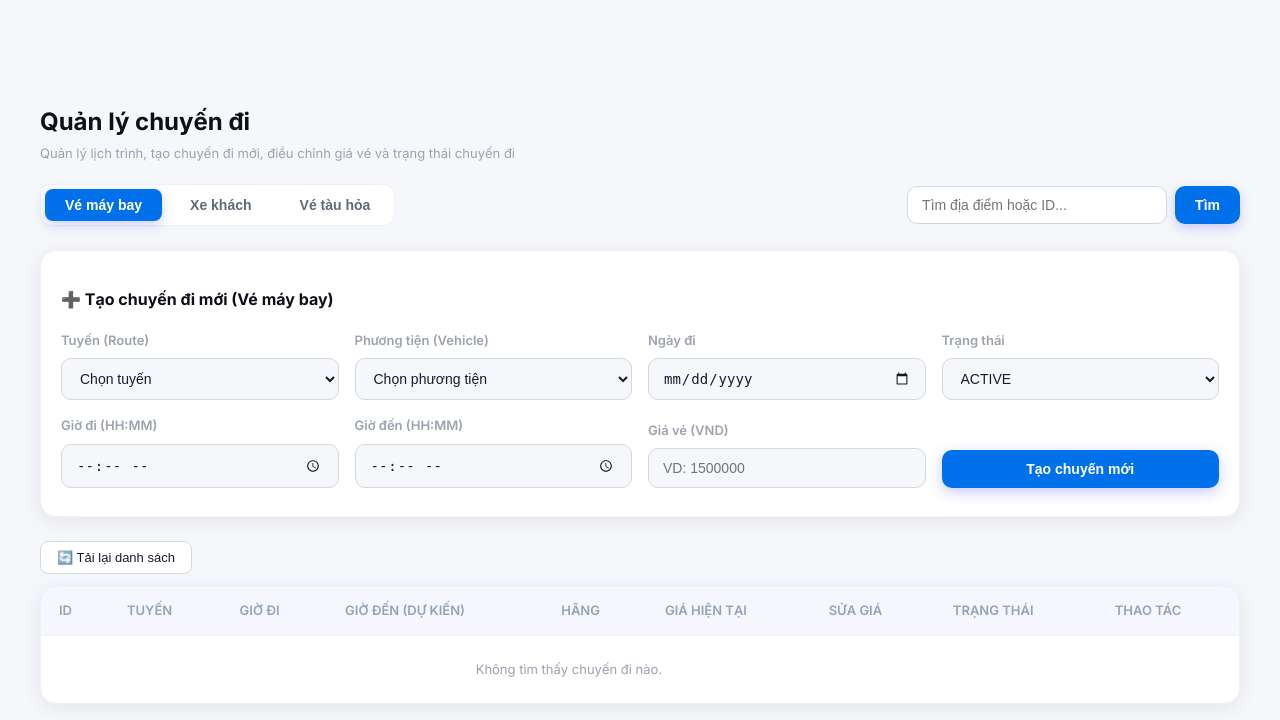
Test: AdminTrips — phản hồi sau khi tạo chuyến › không báo thành công khi server trả lỗi
Select "Hà Nội (HAN) → TP. Hồ Chí Minh (SGN)" in the dropdown below "Tuyến (Route)". click: (200, 379)
box: top-left (61, 358), bottom-right (338, 400)
Select "Vietnam Airlines (180 chỗ)" in the dropdown below "Phương tiện (Vehicle)". click: (493, 379)
box: top-left (354, 358), bottom-right (632, 400)
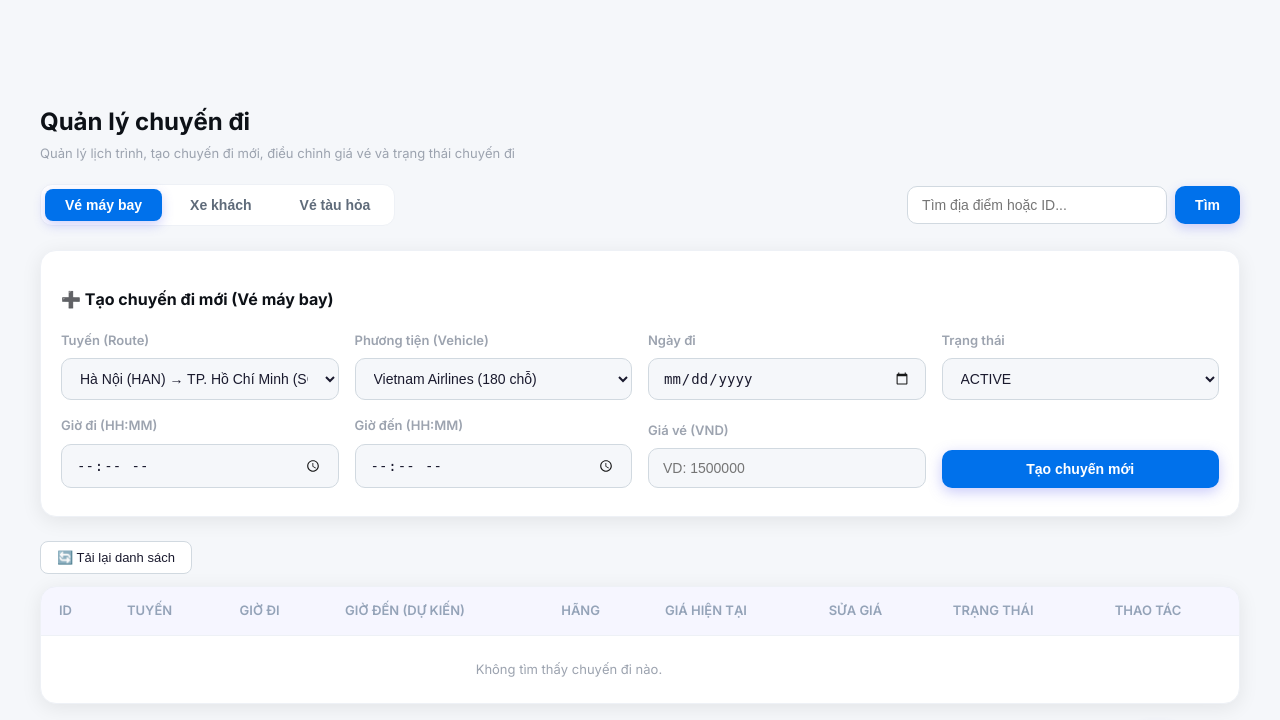
Type "2026-12-24" into the date field. click: (787, 379)
box: top-left (648, 358), bottom-right (926, 400)
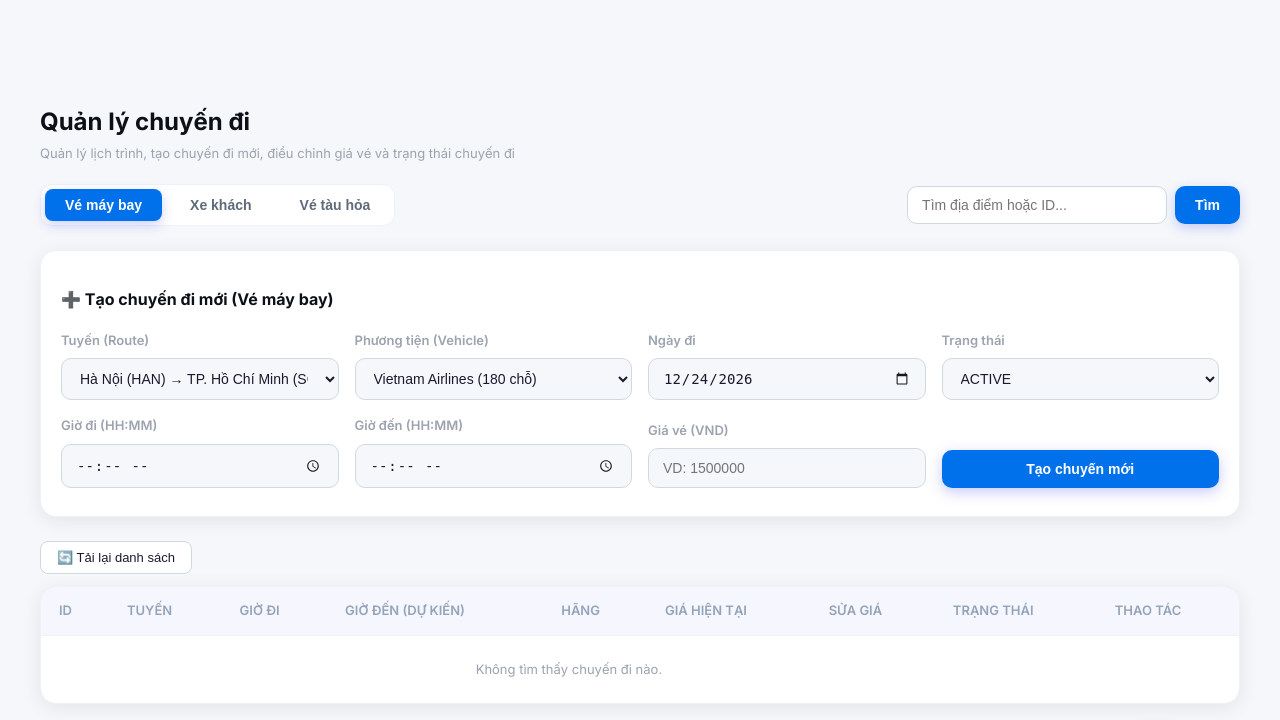
Type "08:00" into the time field below "Giờ đi (HH:MM)". click: (200, 466)
box: top-left (61, 444), bottom-right (338, 488)
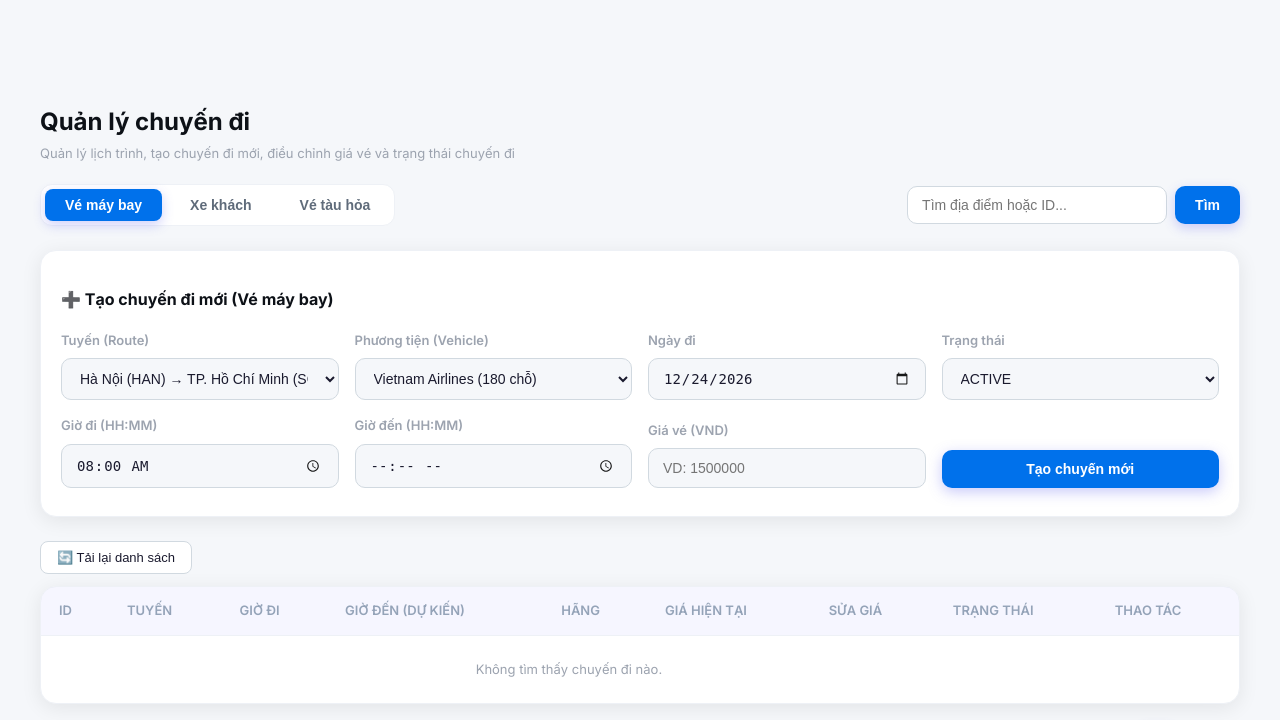
Type "10:15" into the time field below "Giờ đến (HH:MM)". click: (493, 466)
box: top-left (354, 444), bottom-right (632, 488)
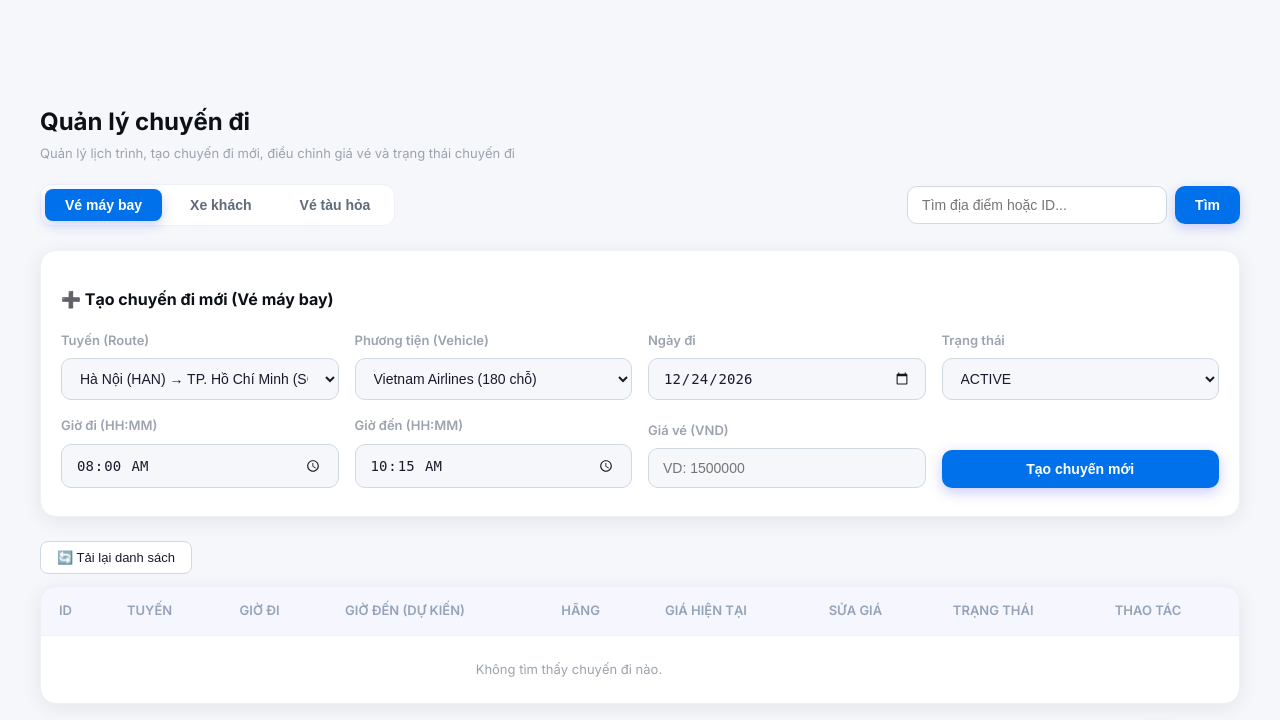
Type "1500000" into the number field with placeholder "VD: 1500000". click: (787, 468)
box: top-left (648, 448), bottom-right (926, 488)
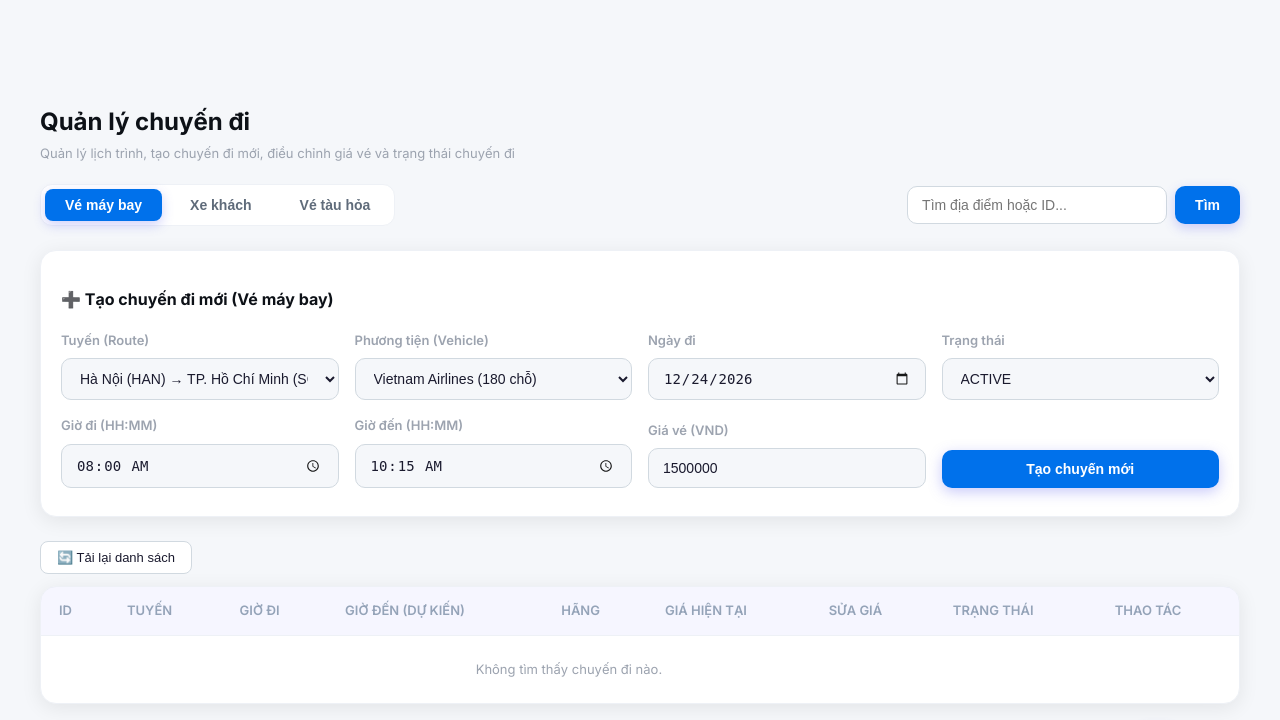
Click the button "Tạo chuyến mới". click: (1080, 469)
box: top-left (942, 450), bottom-right (1219, 488)
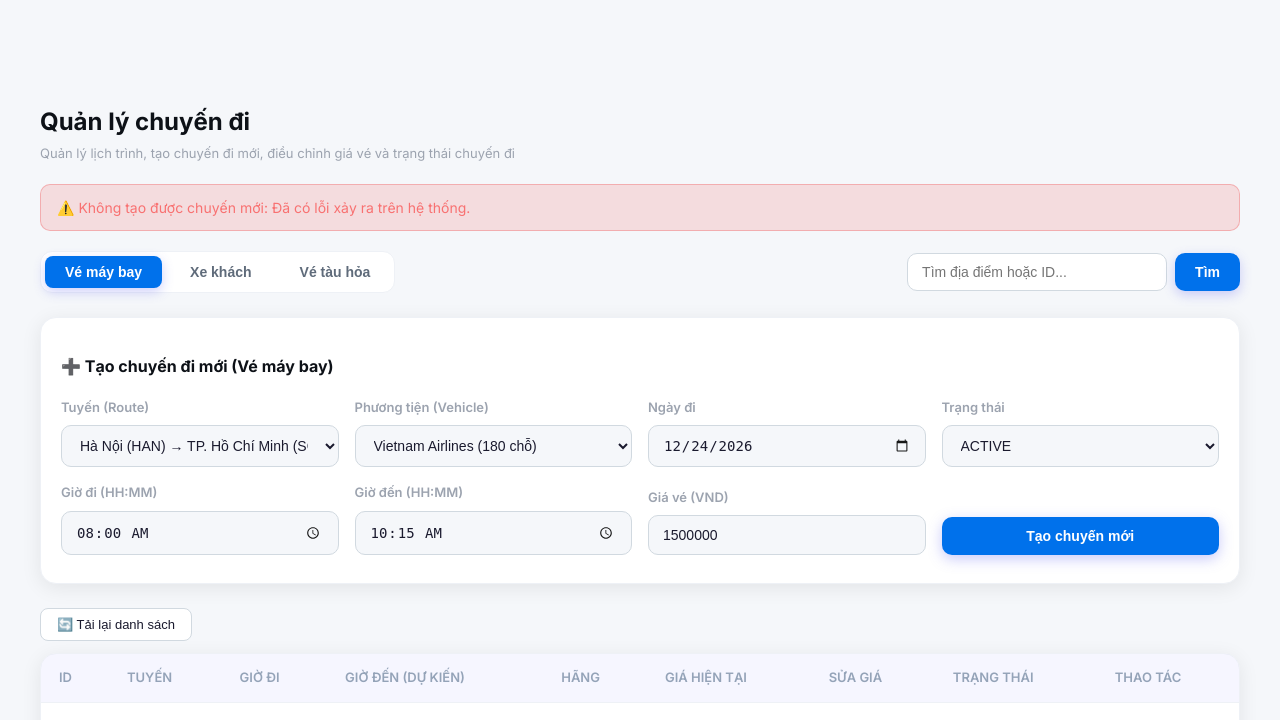
Now the text "Đã có lỗi xảy ra trên hệ thống" is shown, box top-left (78, 198), bottom-right (470, 216)
